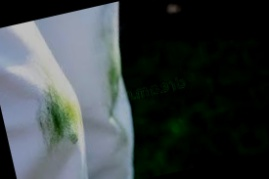earth: (39, 88, 83, 142), (102, 60, 127, 102)
